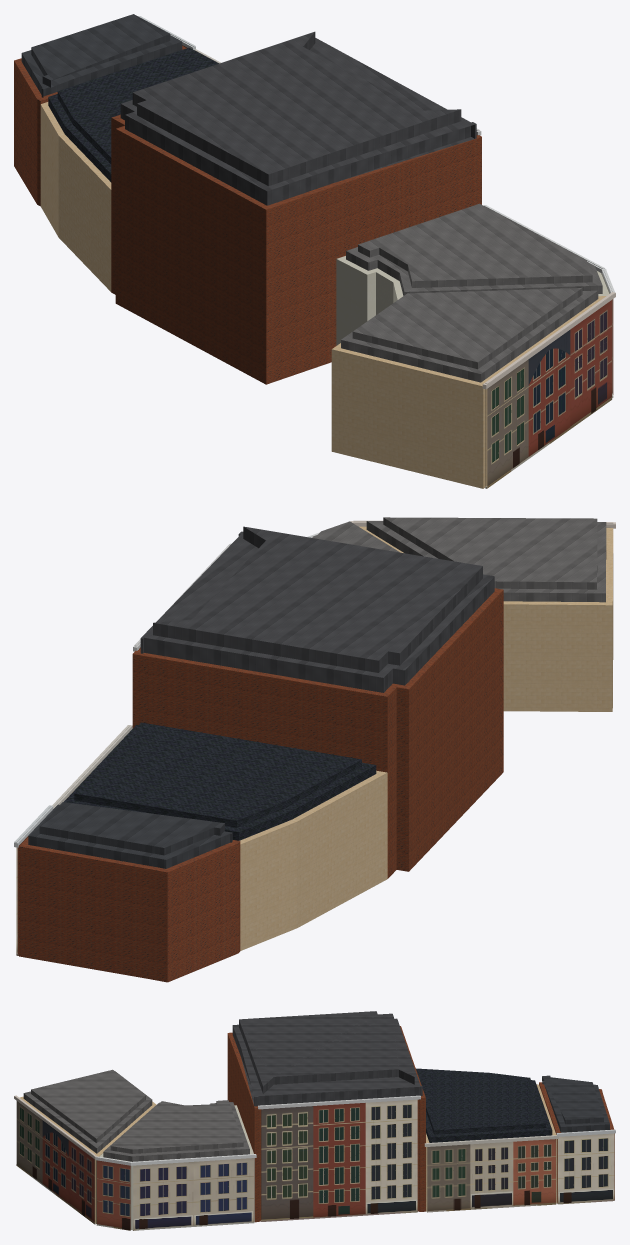
3 renders of one model, top to bottom at view 1: azimuth 30°, elevation 25°; view 2: azimuth 150°, elevation 25°; view 3: azimuth 270°, elevation 25°, orthographic. The views are drawn at different scales.
Parts seen in each view (by area): view 1: bldg_497835092, bldg_497835092_roof_b, bldg_503530950, bldg_503530950_facade0, bldg_497835093_roof_b, bldg_503530950_roof_b, bldg_497835092_roof_a, bldg_497835091, bldg_497835091_roof_b, bldg_497835090_roof_b, bldg_503530950_roof_a, bldg_497835093 (+4 smaller); view 2: bldg_497835092, bldg_497835092_roof_b, bldg_497835090, bldg_497835091_roof_b, bldg_497835091, bldg_503530950, bldg_503530950_roof_b, bldg_497835092_roof_a, bldg_497835090_roof_b, bldg_497835090_roof_a, bldg_503530950_roof_a, bldg_497835091_roof_a (+3 smaller); view 3: bldg_497835092_facade0, bldg_497835092_roof_b, bldg_497835091_facade0, bldg_497835093_facade1, bldg_497835091_roof_b, bldg_503530950_facade0, bldg_497835093_roof_b, bldg_503530950_roof_b, bldg_497835092_roof_a, bldg_497835090_facade0, bldg_497835092, bldg_497835093_facade0 (+9 smaller).
Boxes of the visible parts, left/top/right/bottom form: bldg_497835092: left=111, top=114, right=481, bottom=384; bldg_497835092_roof_b: left=132, top=31, right=461, bottom=186; bldg_503530950: left=331, top=296, right=606, bottom=488; bldg_503530950_facade0: left=482, top=292, right=615, bottom=488; bldg_497835093_roof_b: left=358, top=203, right=592, bottom=287; bldg_503530950_roof_b: left=352, top=287, right=582, bottom=369; bldg_497835092_roof_a: left=120, top=38, right=476, bottom=205; bldg_497835091: left=40, top=102, right=111, bottom=291; bldg_497835091_roof_b: left=57, top=47, right=218, bottom=164; bldg_497835090_roof_b: left=31, top=14, right=170, bottom=87; bldg_503530950_roof_a: left=341, top=290, right=598, bottom=382; bldg_497835093: left=336, top=256, right=609, bottom=345; bldg_497835092: left=132, top=588, right=503, bottom=878; bldg_497835092_roof_b: left=153, top=526, right=482, bottom=672; bldg_497835090: left=19, top=837, right=240, bottom=982; bldg_497835091_roof_b: left=74, top=722, right=361, bottom=827; bldg_497835091: left=239, top=770, right=387, bottom=950; bldg_503530950: left=359, top=526, right=613, bottom=711; bldg_503530950_roof_b: left=383, top=517, right=597, bottom=589; bldg_497835092_roof_a: left=140, top=531, right=494, bottom=692; bldg_497835090_roof_b: left=39, top=802, right=224, bottom=855; bldg_497835090_roof_a: left=28, top=804, right=232, bottom=868; bldg_503530950_roof_a: left=366, top=521, right=606, bottom=602; bldg_497835091_roof_a: left=64, top=725, right=376, bottom=840; bldg_497835092_facade0: left=258, top=1095, right=420, bottom=1221; bldg_497835092_roof_b: left=239, top=1011, right=414, bottom=1093; bldg_497835091_facade0: left=424, top=1135, right=558, bottom=1212; bldg_497835093_facade1: left=131, top=1154, right=256, bottom=1230; bldg_497835091_roof_b: left=416, top=1068, right=545, bottom=1134; bldg_503530950_facade0: left=14, top=1095, right=97, bottom=1224; bldg_497835093_roof_b: left=110, top=1100, right=243, bottom=1153; bldg_503530950_roof_b: left=31, top=1069, right=145, bottom=1142; bldg_497835092_roof_a: left=232, top=1018, right=422, bottom=1106; bldg_497835090_facade0: left=556, top=1129, right=615, bottom=1204; bldg_497835092: left=227, top=1026, right=425, bottom=1222; bldg_497835093_facade0: left=95, top=1156, right=131, bottom=1230.
Bounding box in the file's own units: 28.17 × 18.32 × 76.23.
Materials: 20 (10 with a texture image).
